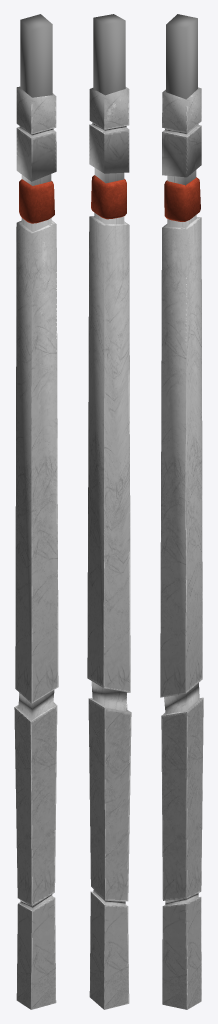
File: Iluminator.fbx
3 renders of one model, left to right at view 1: azimuth 30°, elevation 25°; view 2: azimuth 210°, elevation 25°; view 3: azimuth 330°, elevation 25°, orthographic.
Parts seen in each view (by area): view 1: Staff; view 2: Staff; view 3: Staff.
Part boxes in pixels (<box>): Staff: <box>14,14,58,1009</box>; Staff: <box>87,14,131,1009</box>; Staff: <box>160,14,203,1009</box>.
Bounding box in the file's own units: 0.0305 × 1.05 × 0.035.
Materials: 1 (1 with a texture image).
